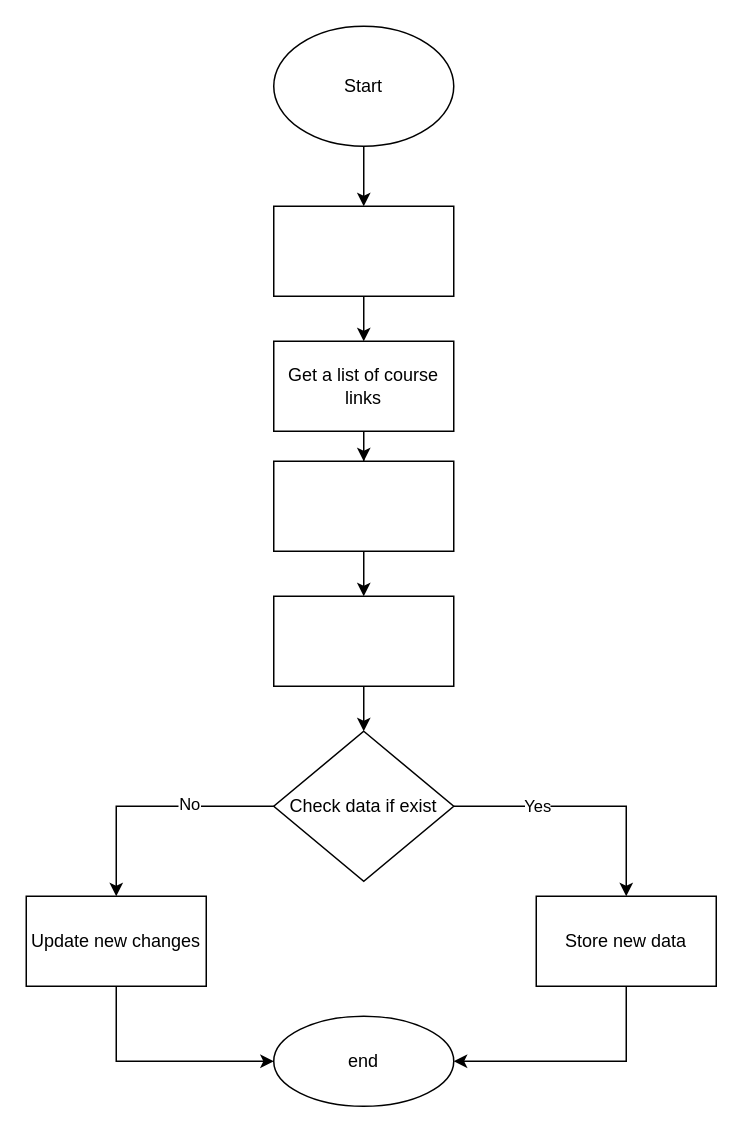
Some shapes in this 743 by 1133 pixel diagram are drawn without their labels. The centre of each missing label's shape, as x and y in pixels:
"Get the courses HTMLs" belongs at pixel 363 505.
"Get the number of pages" belongs at pixel 363 250.
"Process the HTMLs to row data" belongs at pixel 363 640.
